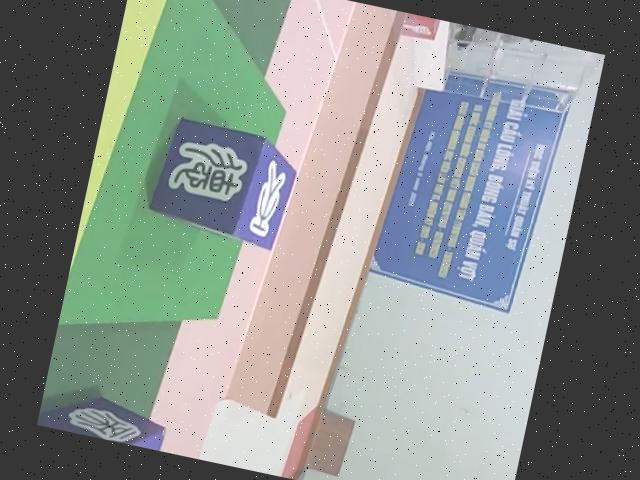R2 Fake Blue: (139, 114, 300, 255), (36, 384, 167, 451)
